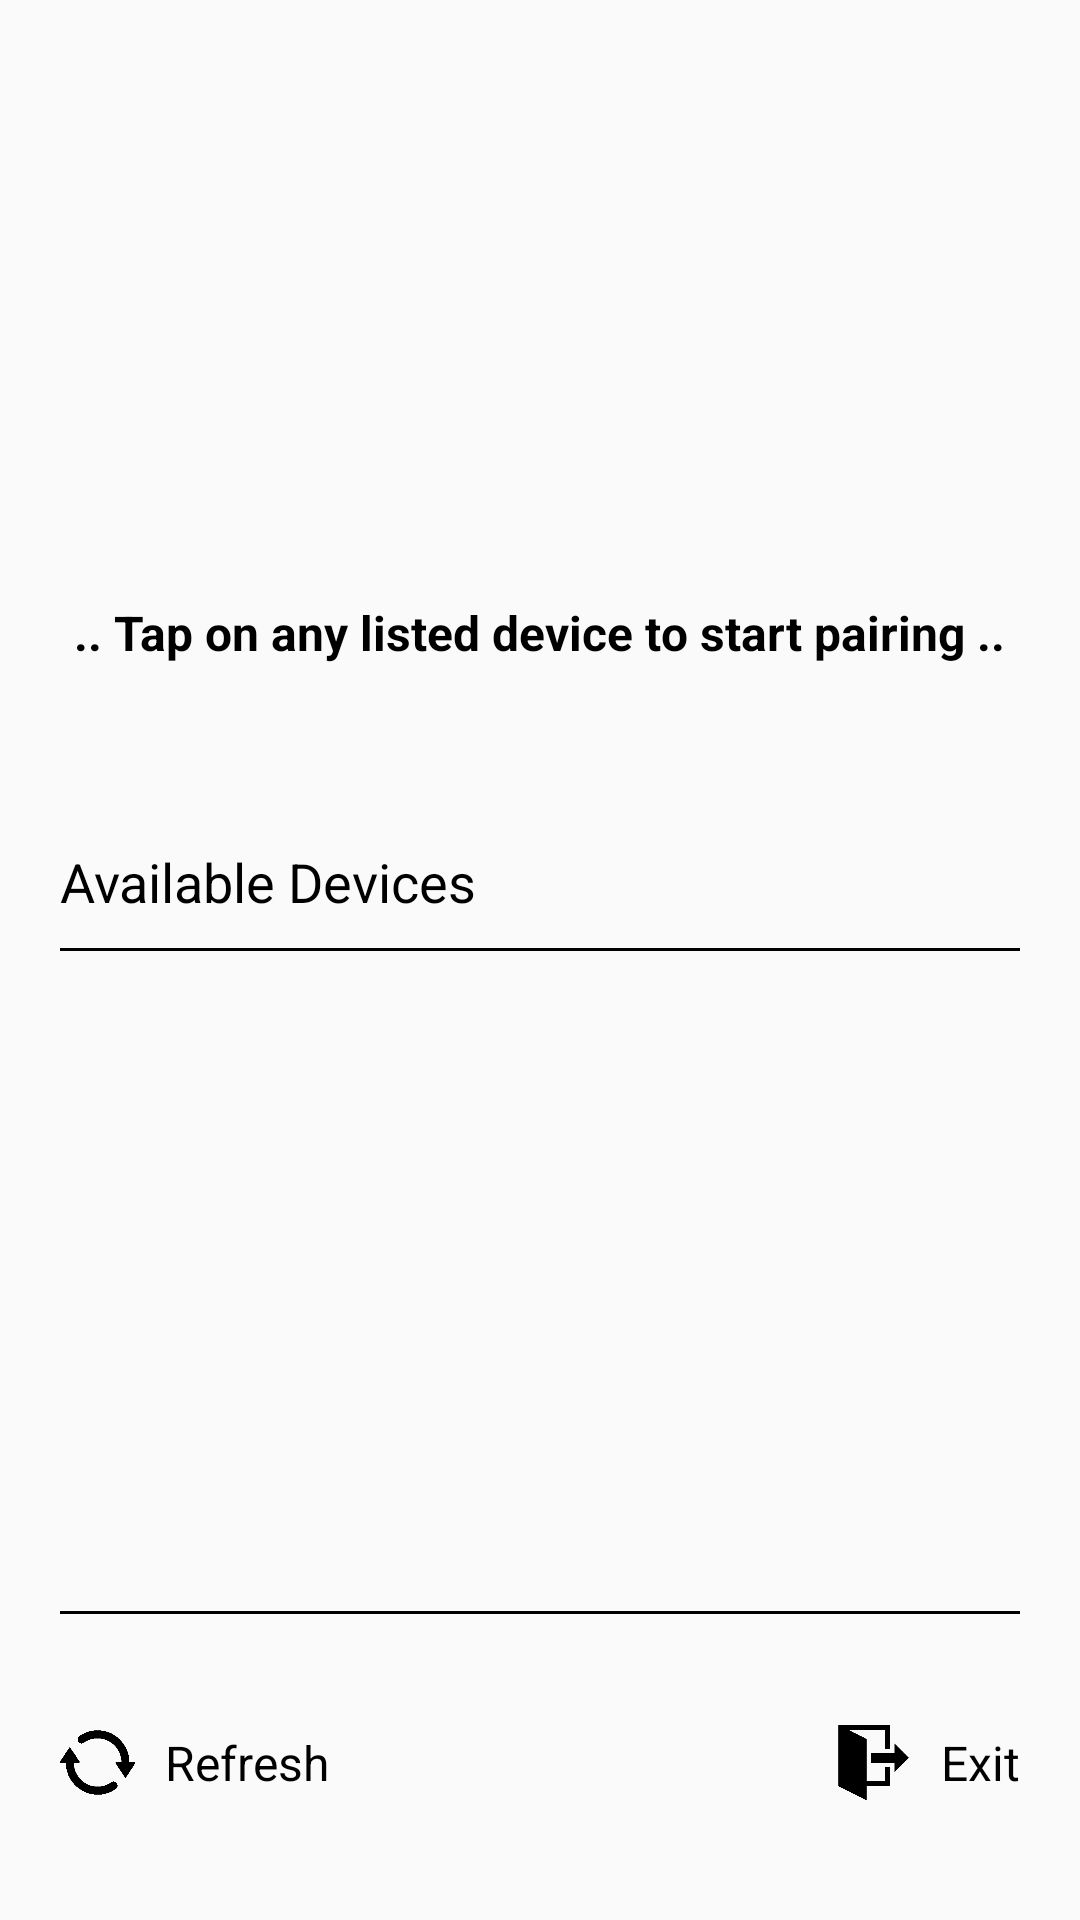

Named icons in this screenshot (1080×1920) and their bounding boxes, (x1, y1, x2, y2):
referesh: (60, 1730, 135, 1795)
